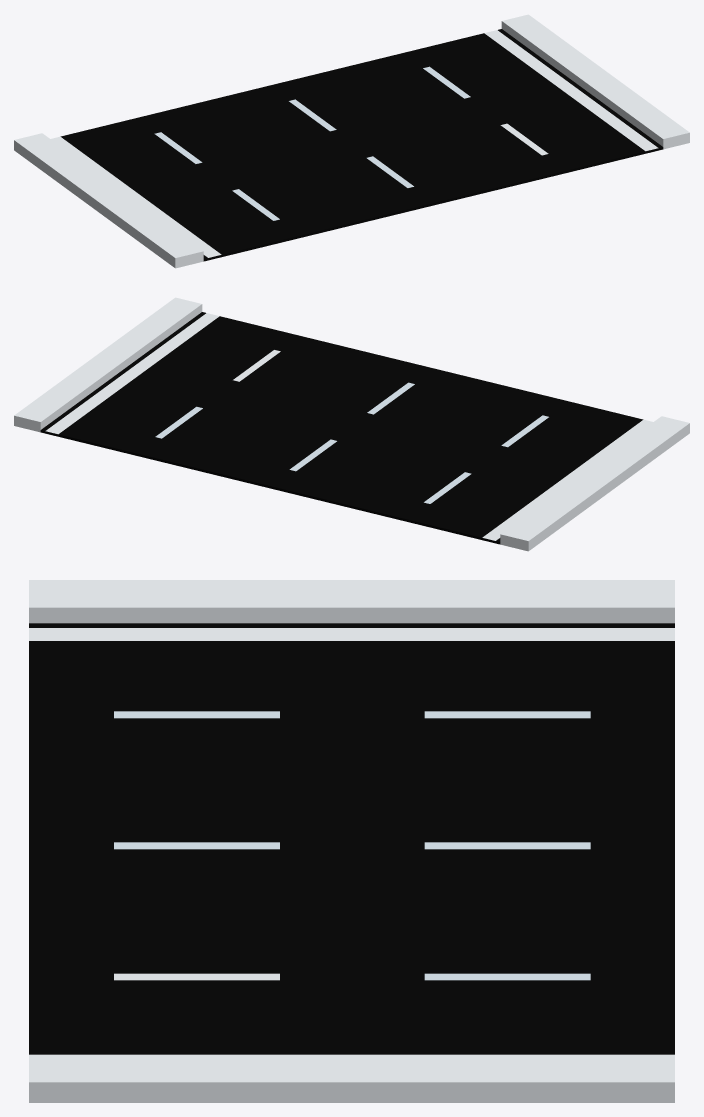
Rendered from road5.fbx.
3 renders of one model, top to bottom at view 1: azimuth 30°, elevation 25°; view 2: azimuth 150°, elevation 25°; view 3: azimuth 270°, elevation 25°, orthographic. The views are drawn at different scales.
Parts seen in each view (by area): view 1: Plane.011, Plane.007, Plane.008; view 2: Plane.011, Plane.007, Plane.008; view 3: Plane.011, Plane.007, Plane.008, Plane.012, Plane.002, Plane.004, Plane.005, Plane.006, Plane.013.
Boxes of the visible parts, <box> form: Plane.011: <box>60,29,663,261</box>; Plane.007: <box>14,14,689,268</box>; Plane.008: <box>51,30,658,257</box>; Plane.011: <box>40,312,643,544</box>; Plane.007: <box>14,297,689,551</box>; Plane.008: <box>45,313,652,540</box>; Plane.011: <box>29,623,674,1054</box>; Plane.007: <box>29,580,674,1102</box>; Plane.008: <box>29,628,674,1056</box>; Plane.012: <box>424,711,590,718</box>; Plane.002: <box>424,842,590,849</box>; Plane.004: <box>424,973,590,980</box>; Plane.005: <box>114,711,279,718</box>; Plane.006: <box>114,973,279,980</box>; Plane.013: <box>114,842,279,849</box>.
Size of the model in its own units: 3811 by 72.9 by 2071.
